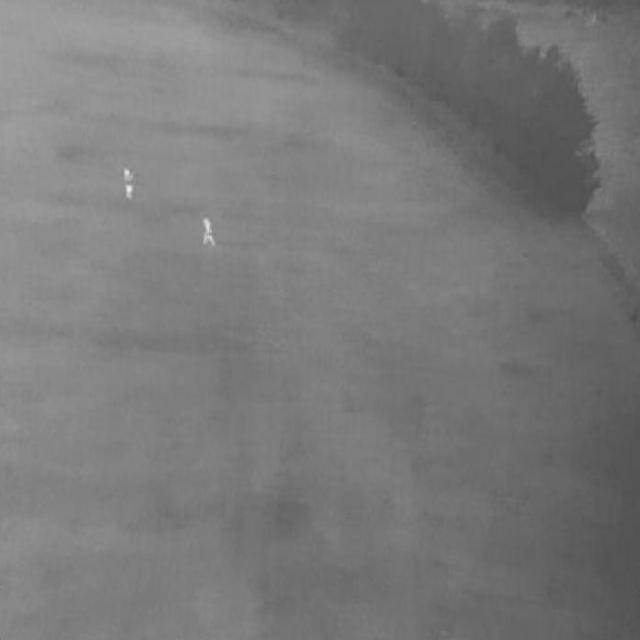person: (202, 218, 216, 247), (124, 169, 134, 200)
